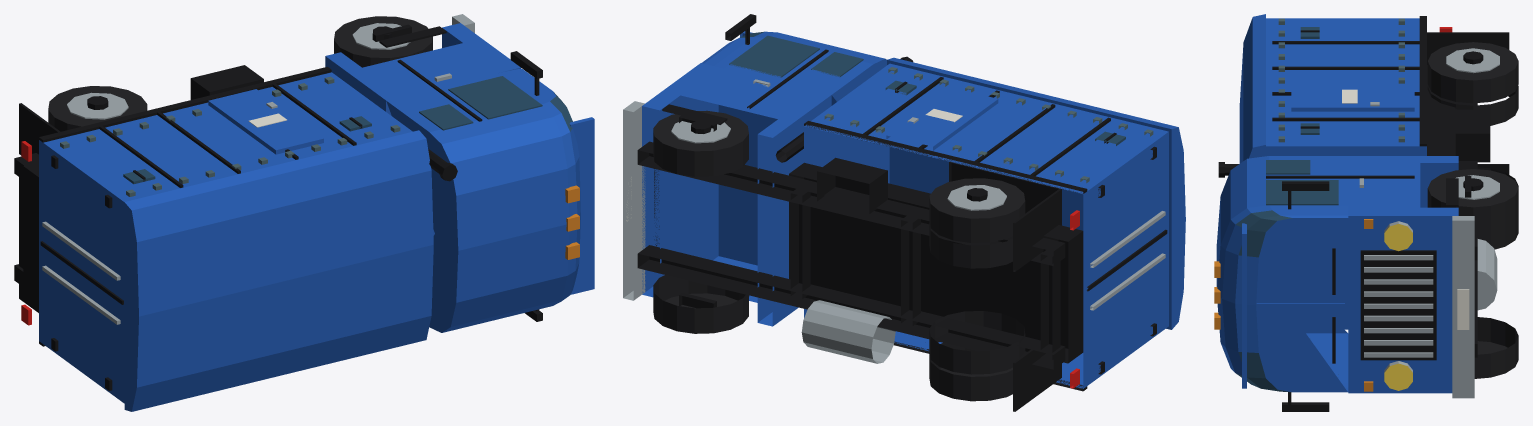
3 views of the same model, side by side, from view 1: azimuth 30°, elevation 25°; view 2: azimuth 150°, elevation 25°; view 3: azimuth 270°, elevation 25° (orthographic). The views are drawn at different scales.
Visible parts, largest first — view 1: default_roof, default_body, default_cab_upper, default_cab_arch, default_side1_-0.90_1.95_cc1, default_rear_out1, default_front1, default_visor, default_side_window1, default_subframe, default_side1_-3.60_1.75_black, default_cab_back (+7 smaller); view 2: default_body, default_subframe, default_cab_arch, default_chassis-1, default_cab_front, default_cab_back, default_roof, default_chassis1, default_rear_out1, default_front1, default_fuel_tank, default_cab_upper (+19 smaller); view 3: default_cab_upper, default_body, default_cab_front, default_grille, default_rear_out1, default_bumper, default_front1, default_roof, default_cab_arch, default_side1_-0.90_1.95_cc1, default_front-1, default_battery_box (+32 smaller).
Part boxes in pixels (<box>): default_roof: <box>124,130,433,411</box>; default_body: <box>39,72,412,403</box>; default_cab_upper: <box>386,69,580,332</box>; default_cab_arch: <box>362,43,502,235</box>; default_side1_-0.90_1.95_cc1: <box>208,89,323,154</box>; default_rear_out1: <box>48,86,147,131</box>; default_front1: <box>334,16,432,67</box>; default_visor: <box>569,117,594,294</box>; default_side_window1: <box>448,76,542,119</box>; default_subframe: <box>23,162,38,302</box>; default_side1_-3.60_1.75_black: <box>39,67,331,142</box>; default_cab_back: <box>325,52,400,115</box>; default_body: <box>804,63,1168,388</box>; default_subframe: <box>789,162,1083,363</box>; default_cab_arch: <box>680,67,815,302</box>; default_chassis-1: <box>637,245,1065,369</box>; default_cab_front: <box>642,63,718,297</box>; default_cab_back: <box>757,91,831,326</box>; default_roof: <box>887,57,1185,329</box>; default_chassis1: <box>637,141,1065,265</box>; default_rear_out1: <box>929,178,1025,242</box>; default_front1: <box>653,110,748,176</box>; default_fuel_tank: <box>801,300,895,363</box>; default_cab_upper: <box>701,31,886,105</box>; default_cab_upper: <box>1216,156,1348,392</box>; default_body: <box>1266,18,1426,329</box>; default_cab_front: <box>1348,207,1458,393</box>; default_grille: <box>1360,250,1436,360</box>; default_rear_out1: <box>1427,42,1518,103</box>; default_bumper: <box>1452,216,1474,398</box>; default_front1: <box>1427,169,1518,231</box>; default_roof: <box>1239,14,1265,163</box>; default_cab_arch: <box>1348,163,1420,207</box>; default_side1_-0.90_1.95_cc1: <box>1291,86,1414,111</box>; default_front-1: <box>1474,317,1518,378</box>; default_battery_box: <box>1455,109,1490,162</box>.
Bounding box in the file's own units: 7.61 × 3.98 × 4.82.
